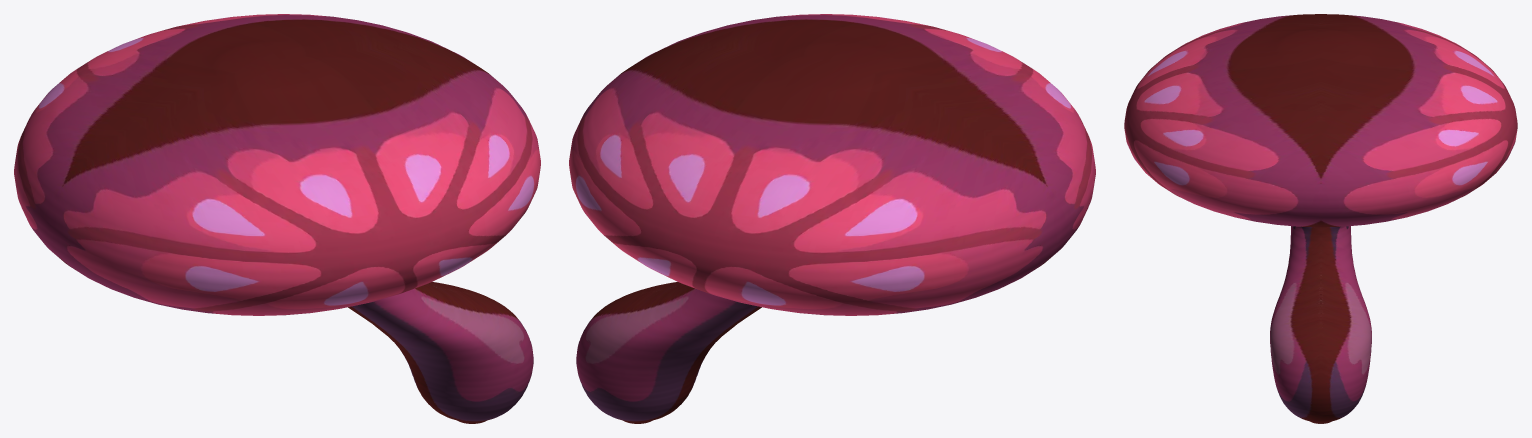
File: pink_rosette_mushroom.glb
3 renders of one model, left to right at view 1: azimuth 30°, elevation 25°; view 2: azimuth 150°, elevation 25°; view 3: azimuth 270°, elevation 25°, orthographic. The views are drawn at different scales.
Parts seen in each view (by area): view 1: pink_rosette_mushroom; view 2: pink_rosette_mushroom; view 3: pink_rosette_mushroom.
Boxes of the visible parts, x1=… form: pink_rosette_mushroom: x1=14, y1=14, x2=540, y2=423; pink_rosette_mushroom: x1=569, y1=14, x2=1095, y2=423; pink_rosette_mushroom: x1=1124, y1=14, x2=1517, y2=423.
Size of the model in its own units: 1 by 0.8068 by 0.9578.
Materials: 1 (1 with a texture image).
